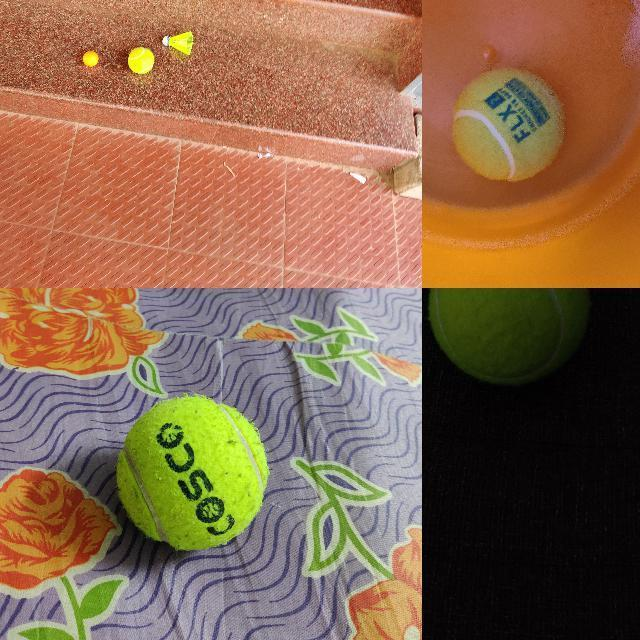tennis-ball: (115, 395, 269, 550), (426, 288, 591, 383), (452, 68, 564, 181), (127, 47, 153, 74)
